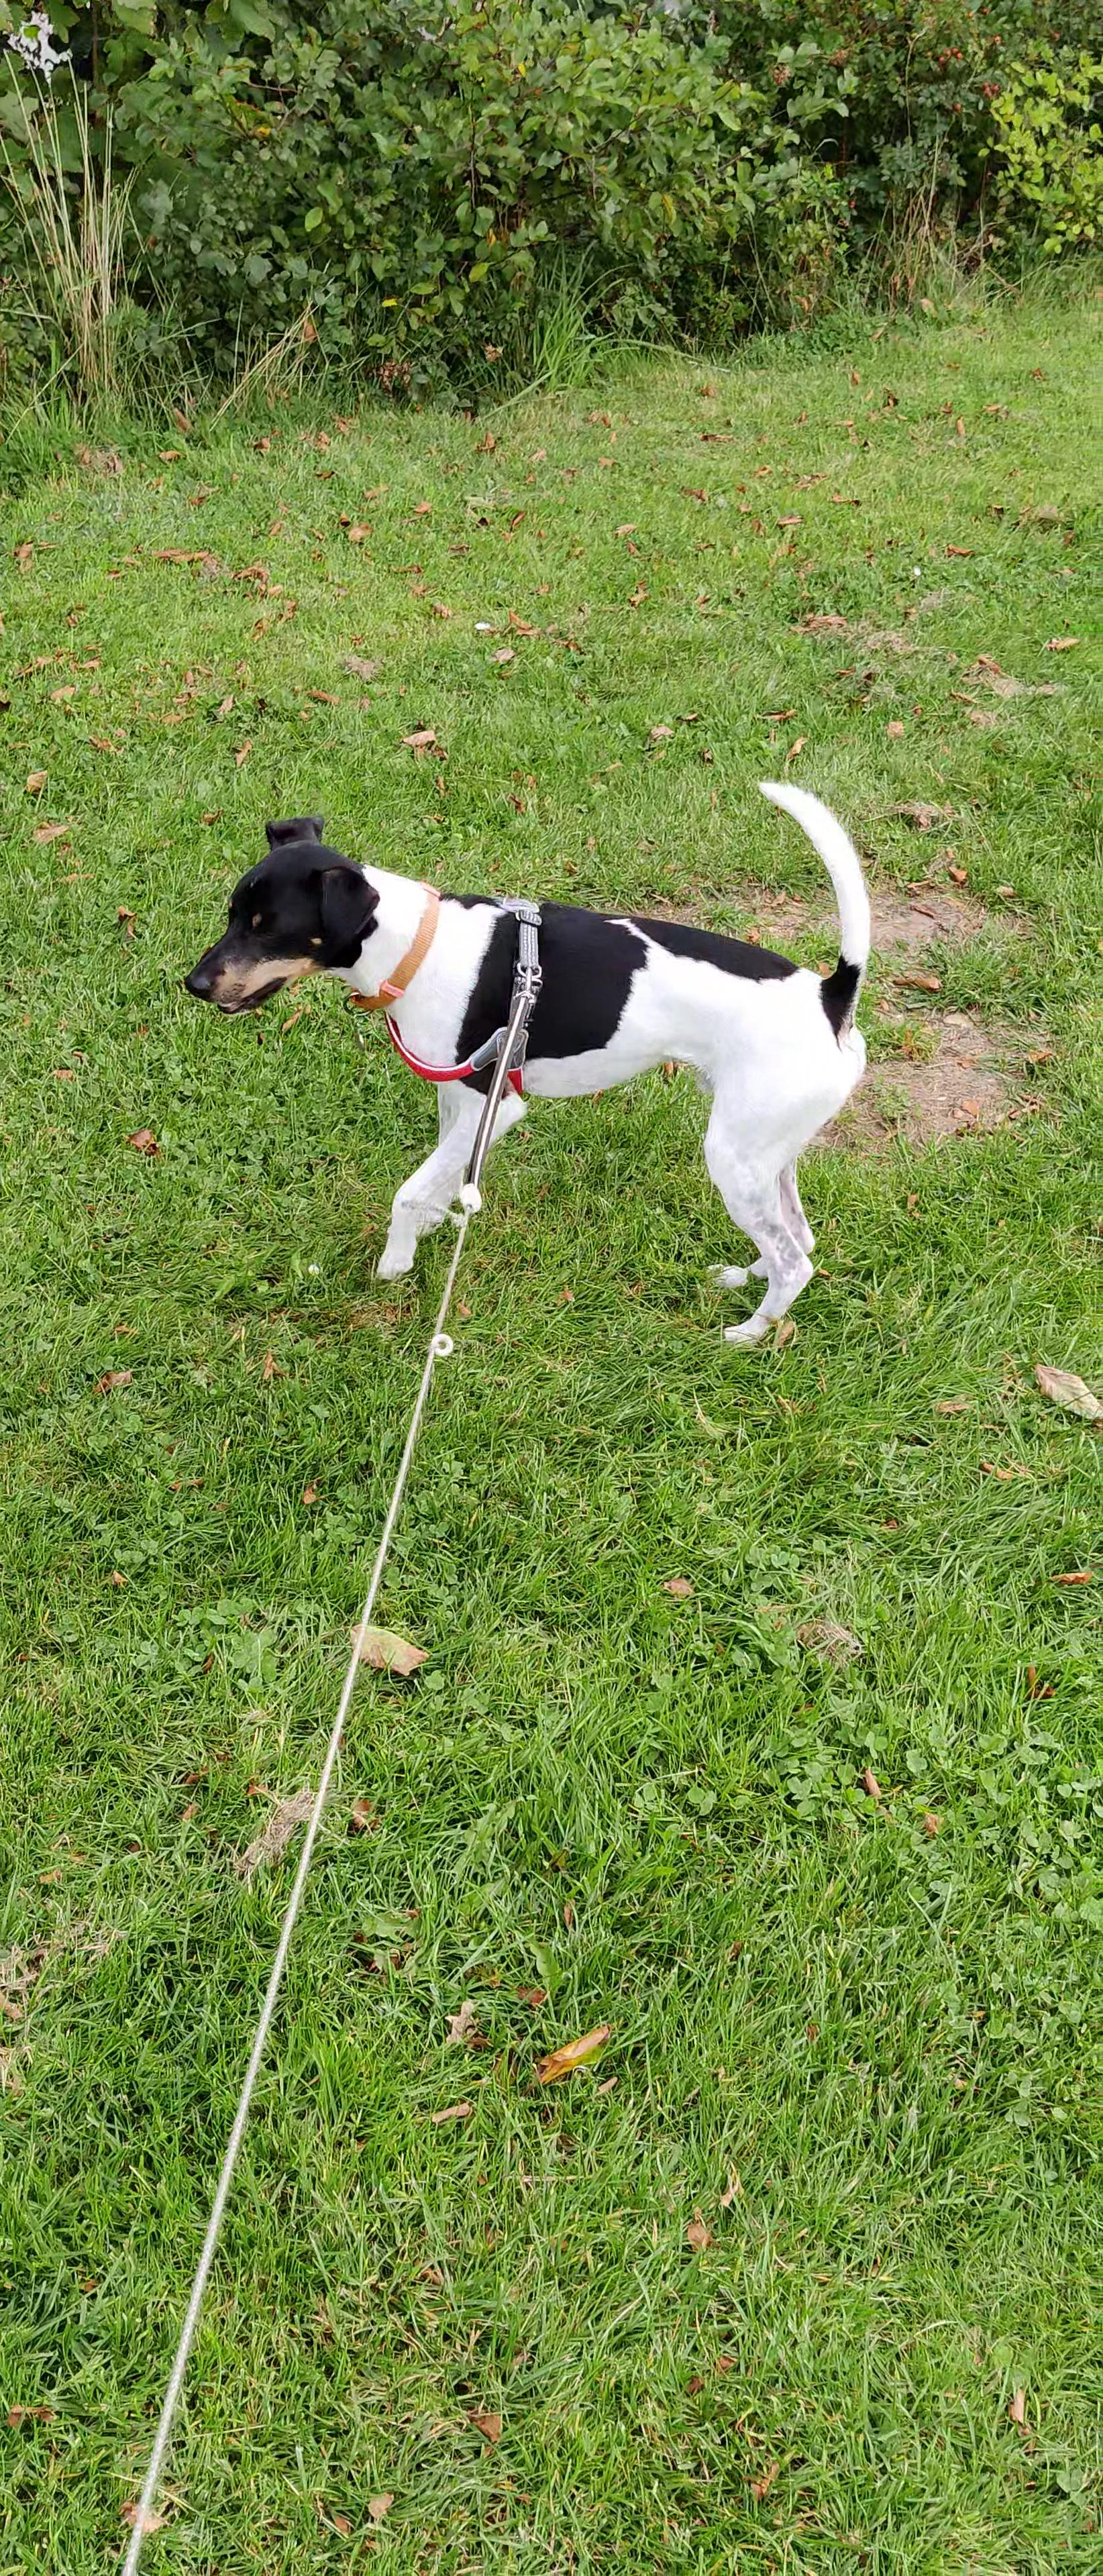Dog: (182, 754, 873, 1354)
